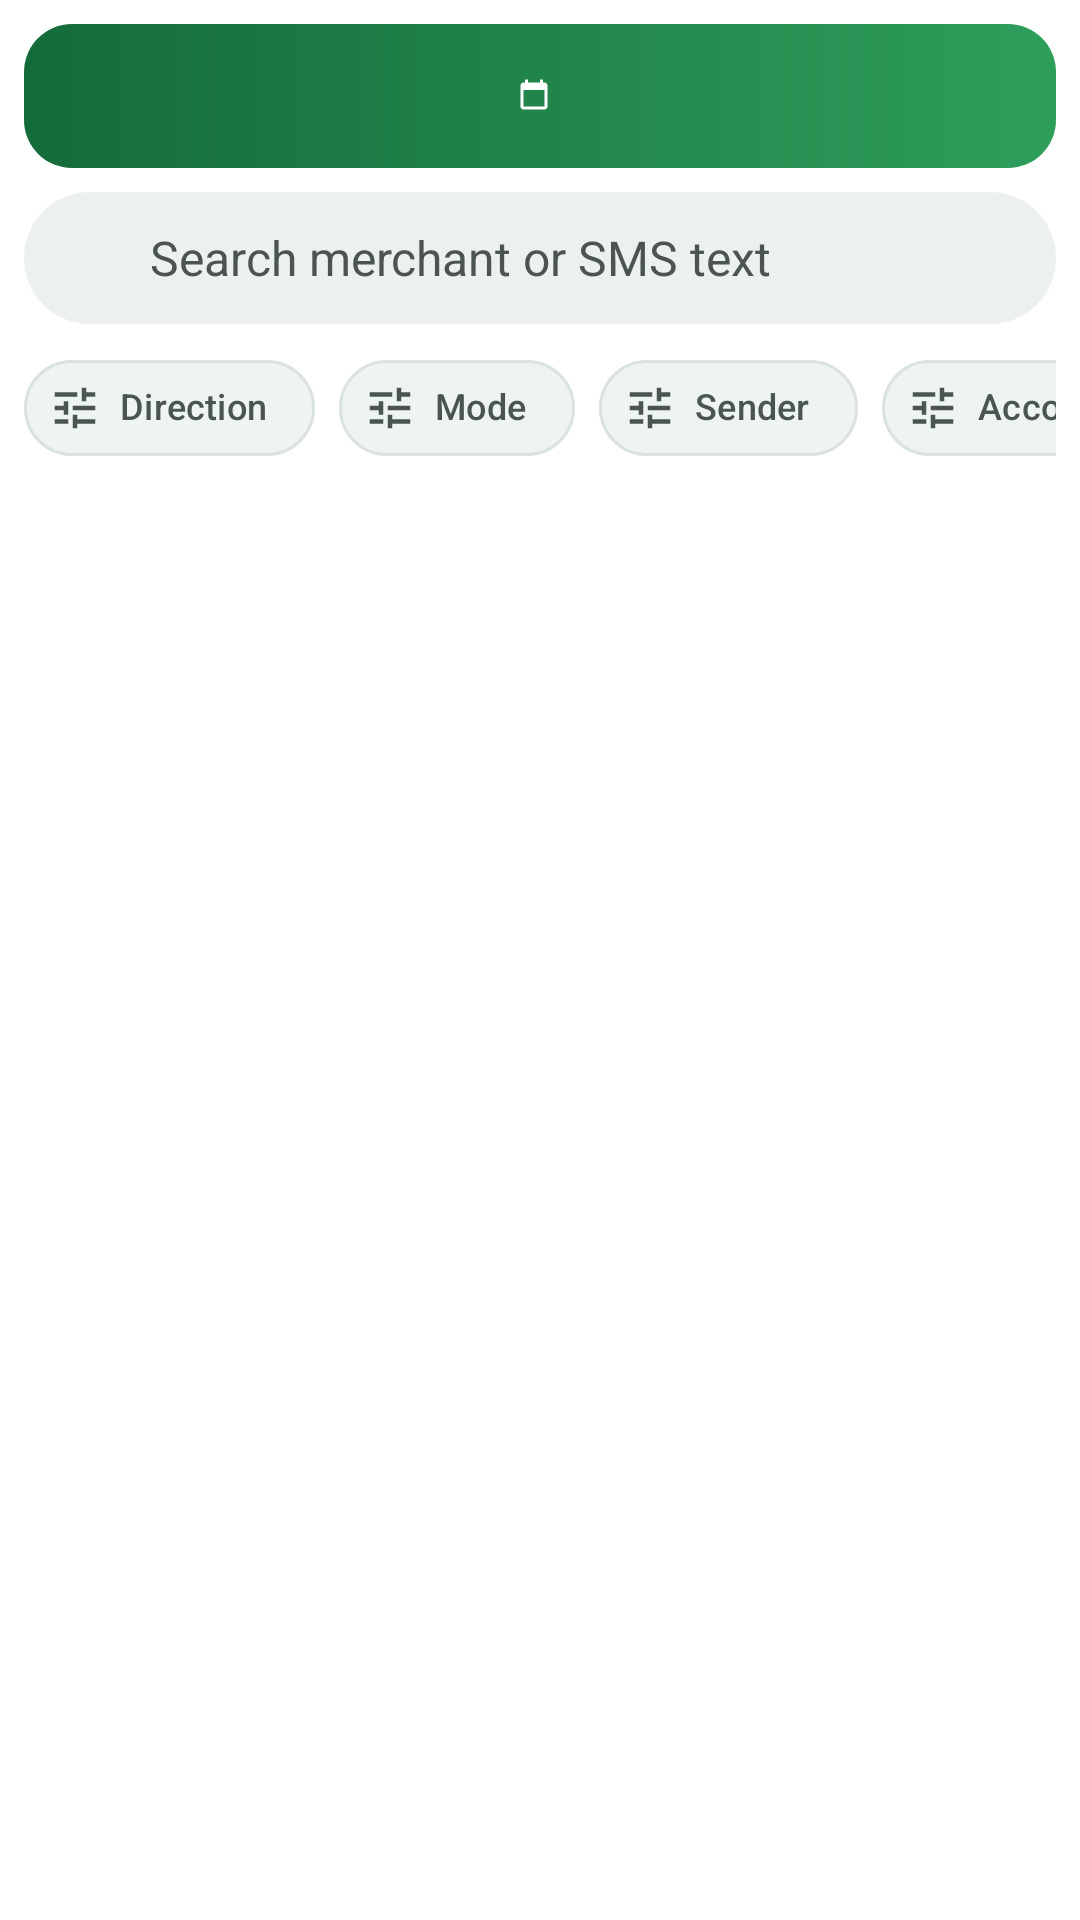

Locate icon controls on the screen. Image size 1080 × 1920, boxes as (x1, y1, x2, y2).
calendar: (520, 79, 548, 110)
